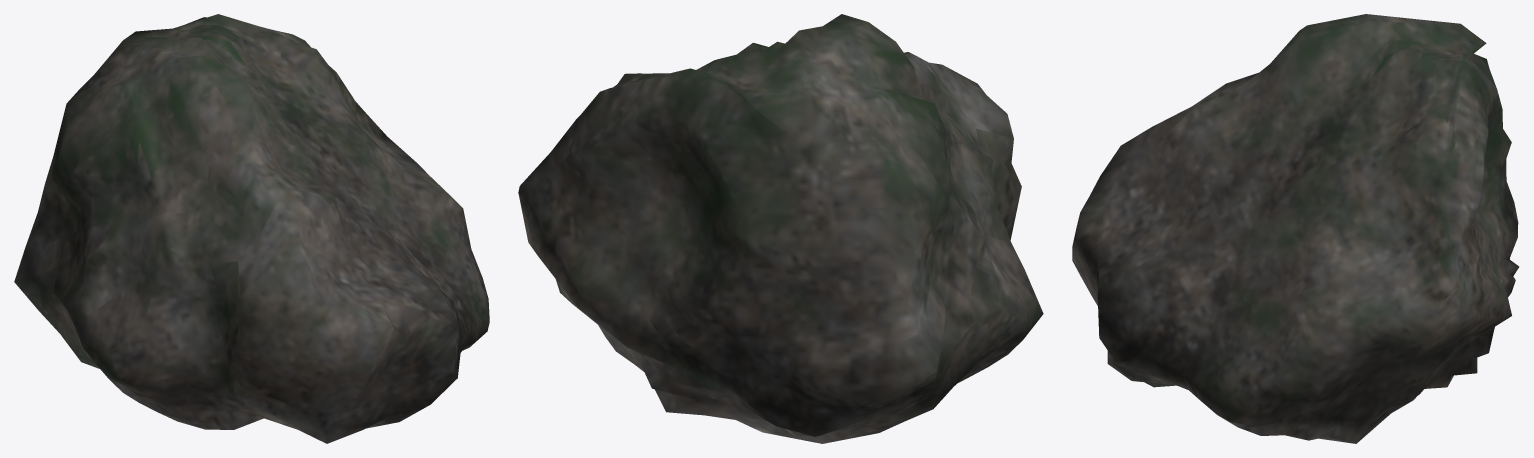
The model's file is Cave Stone 3.fbx.
The picture shows the model from 3 angles, left to right: view 1: azimuth 30°, elevation 25°; view 2: azimuth 150°, elevation 25°; view 3: azimuth 270°, elevation 25°; orthographic projection. The views are drawn at different scales.
Parts seen in each view (by area): view 1: rock.001; view 2: rock.001; view 3: rock.001.
Part boxes in pixels (x1=…): rock.001: x1=14, y1=14, x2=489, y2=443; rock.001: x1=518, y1=14, x2=1043, y2=443; rock.001: x1=1072, y1=14, x2=1519, y2=443.
Bounding box in the file's own units: 125 × 110 × 124.
Materials: 1 (1 with a texture image).
